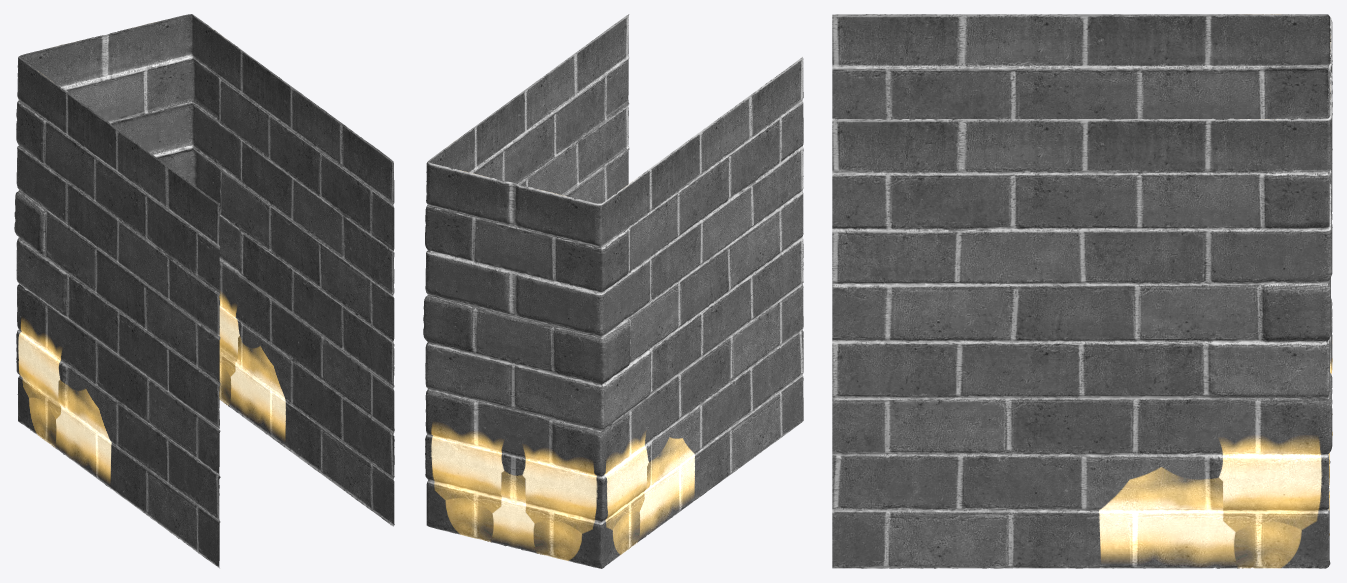
File: SM_Sewer_Wall_Cinder_01c.fbx
The picture shows the model from 3 angles, left to right: view 1: azimuth 30°, elevation 25°; view 2: azimuth 150°, elevation 25°; view 3: azimuth 270°, elevation 25°; orthographic projection. The views are drawn at different scales.
Parts seen in each view (by area): view 1: SM_Sewer_Wall_Cinder_01c_LOD0; view 2: SM_Sewer_Wall_Cinder_01c_LOD0; view 3: SM_Sewer_Wall_Cinder_01c_LOD0.
Part boxes in pixels (left/top/right/bottom): SM_Sewer_Wall_Cinder_01c_LOD0: left=14, top=14, right=394, bottom=568; SM_Sewer_Wall_Cinder_01c_LOD0: left=423, top=14, right=803, bottom=568; SM_Sewer_Wall_Cinder_01c_LOD0: left=832, top=14, right=1332, bottom=568.
Size of the model in its own units: 105 by 202 by 200.
